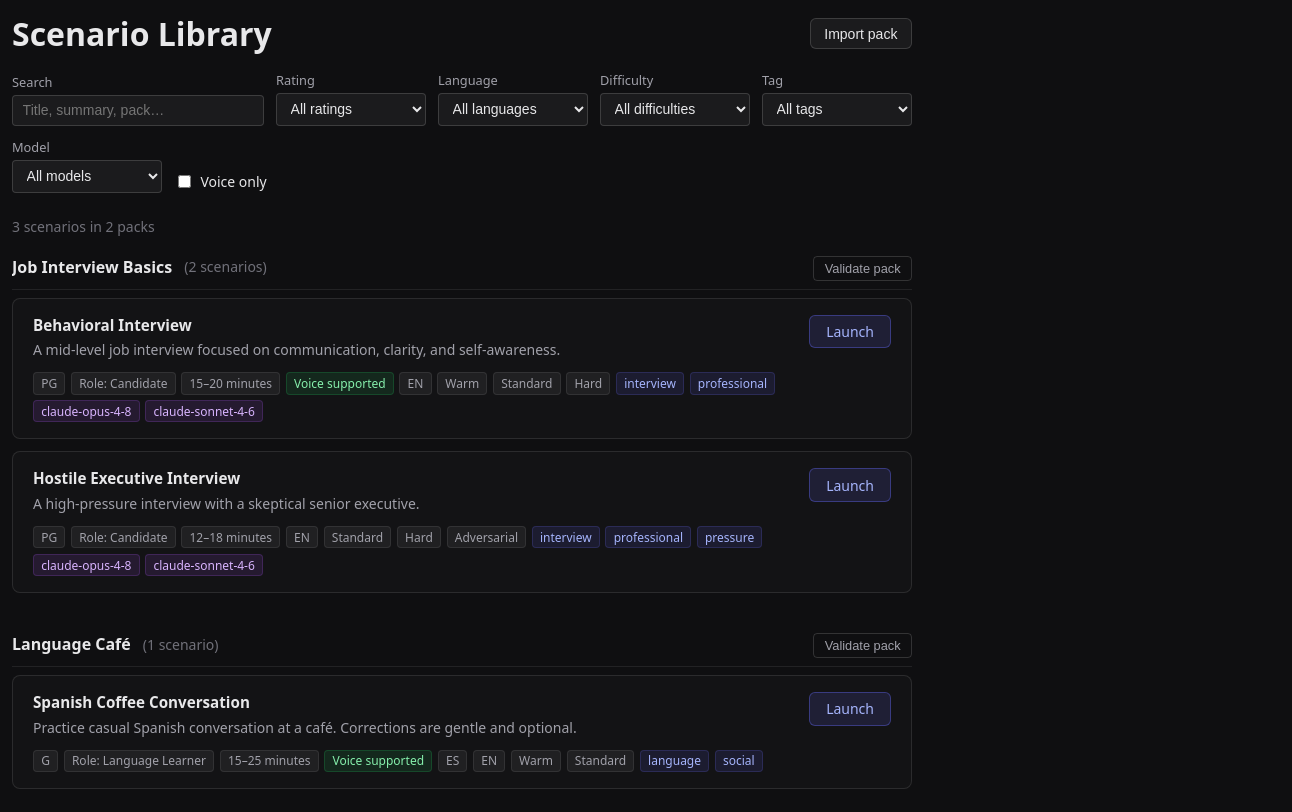
Test case: filters › voice-only checkbox hides scenarios without voice support
The image size is (1292, 812).
Check: the heading "Hostile Executive Interview" is shown, box left=33, top=468, right=240, bottom=488
Click the checkbox named "show voice-supported scenarios only" at (184, 181), box left=178, top=175, right=191, bottom=188
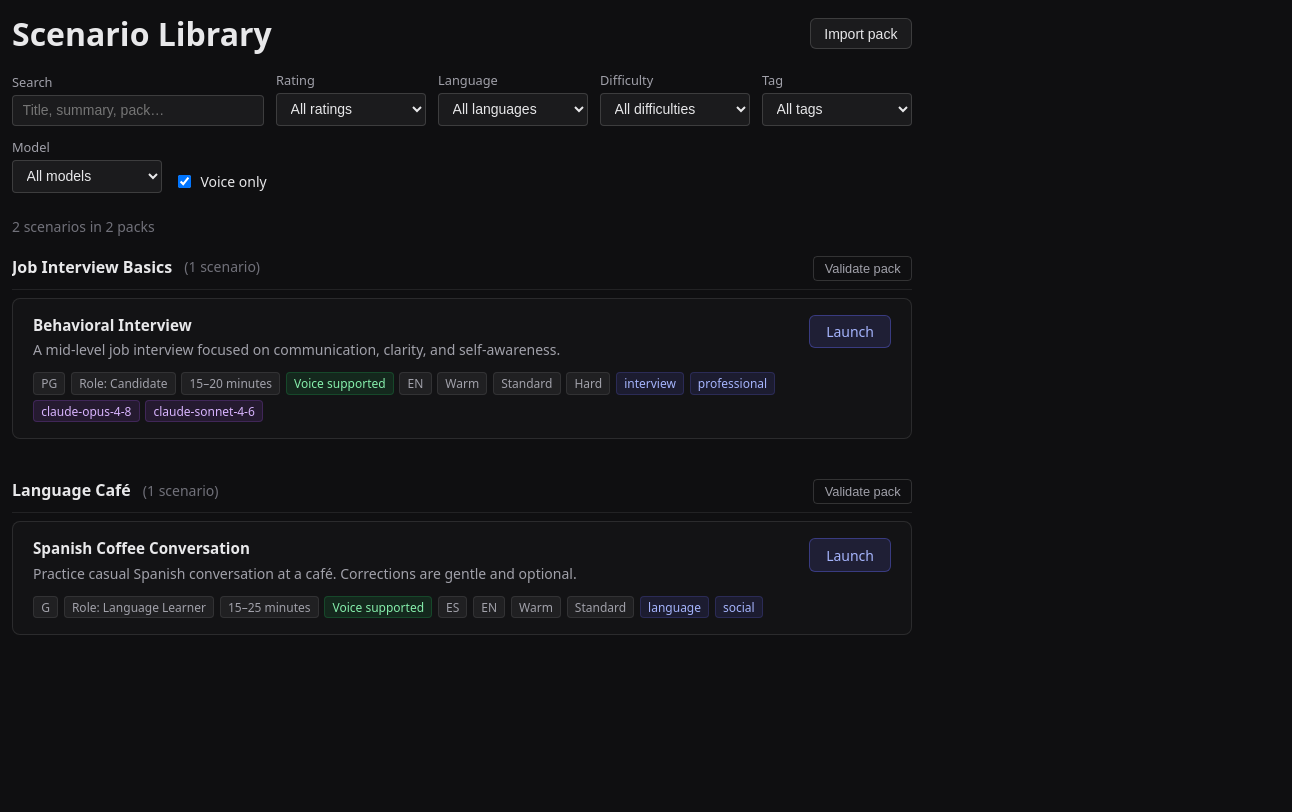
Check: the heading "Behavioral Interview" is shown, box left=33, top=315, right=192, bottom=335
Check: the heading "Hostile Executive Interview" is gone
